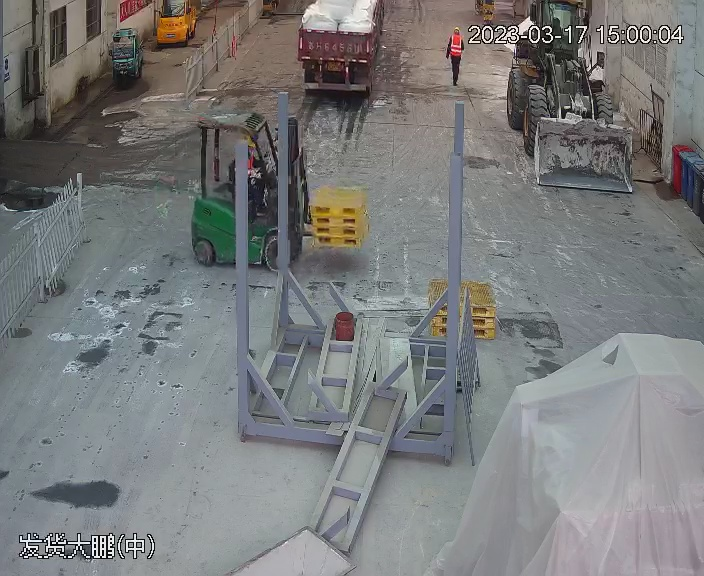head: (449, 25, 464, 44)
helmet: (452, 24, 462, 31)
people: (444, 23, 466, 87)
truck: (293, 0, 389, 93)
